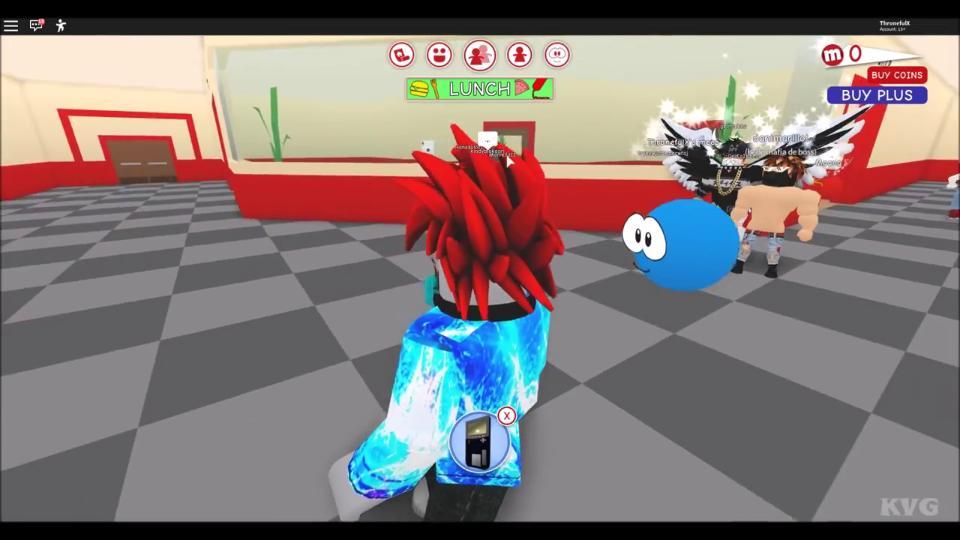Character: (329, 122, 565, 521), (661, 105, 870, 214), (730, 154, 821, 278)
